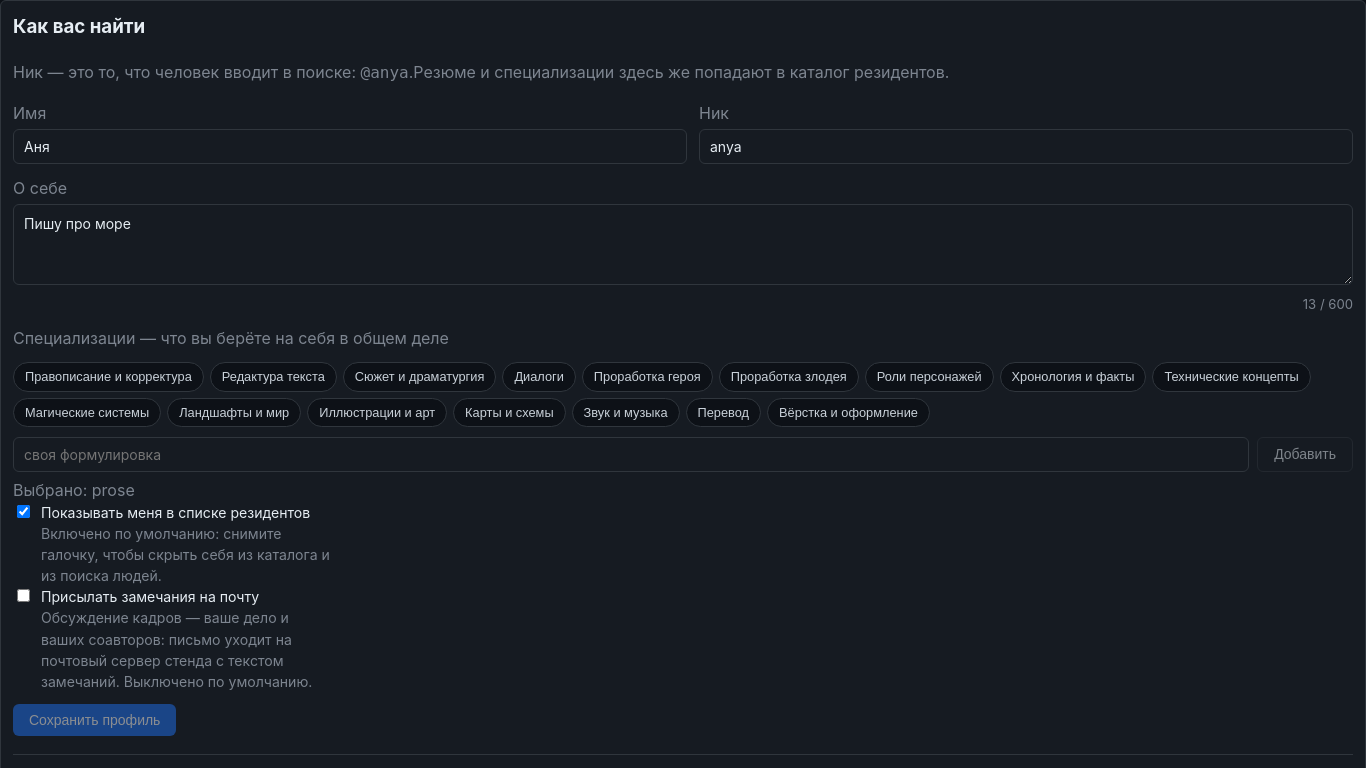
Scenario: ProfileCard › сохраняет только изменённое: имя поменяли — ник не уходит
The width and height of the screenshot is (1366, 768).
Replace the text in the field named "Ваше имя" with "Анна" at (350, 146), box [13, 129, 687, 164]
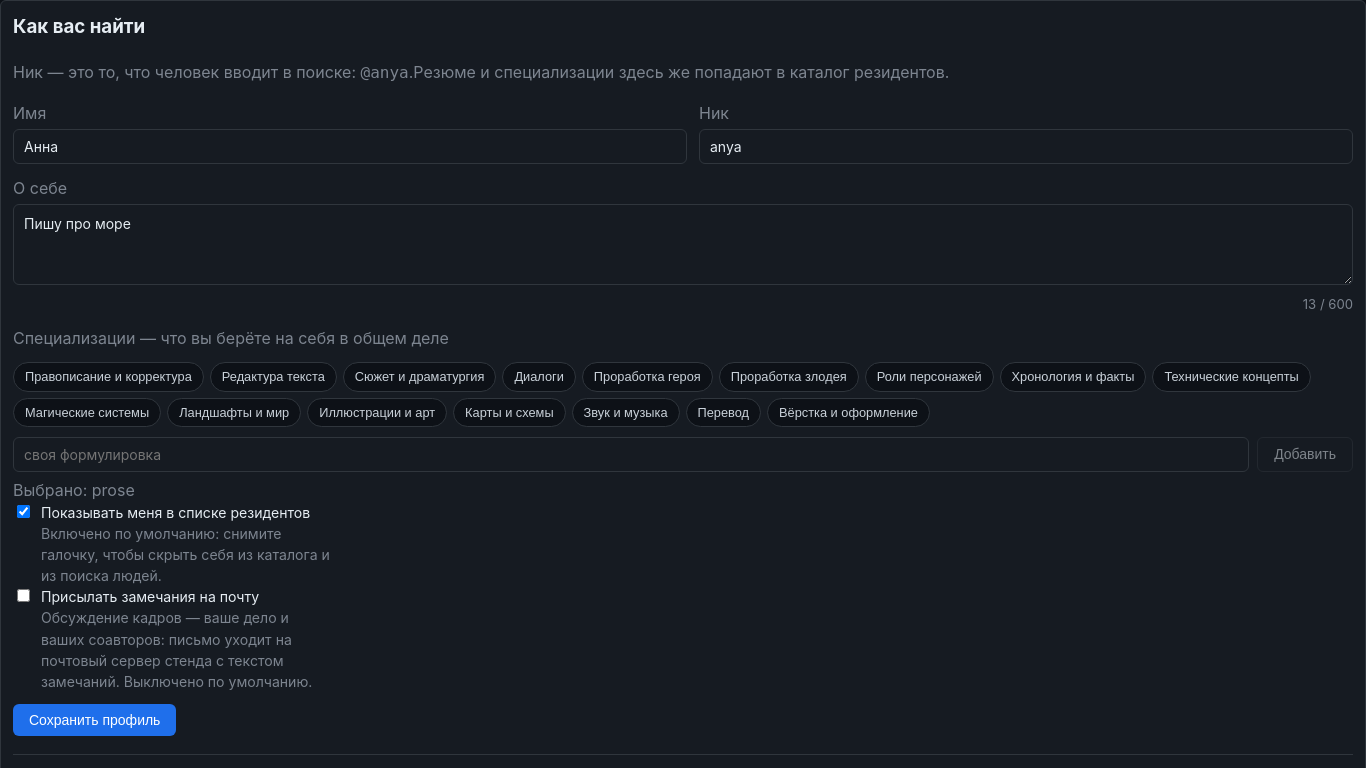
Click the button "Сохранить профиль" at (95, 720), box [13, 704, 176, 736]
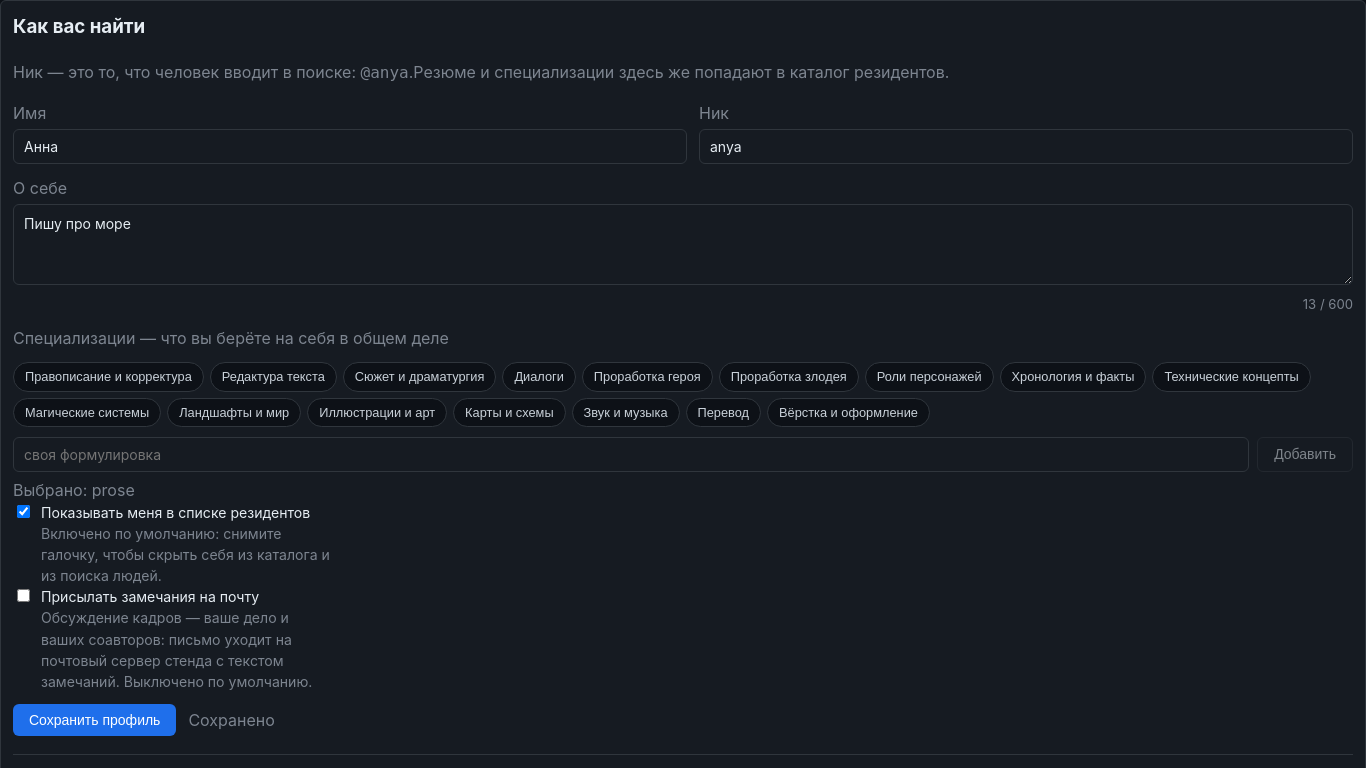
Expected: the text "Сохранено" is shown, [188, 708, 275, 732]
